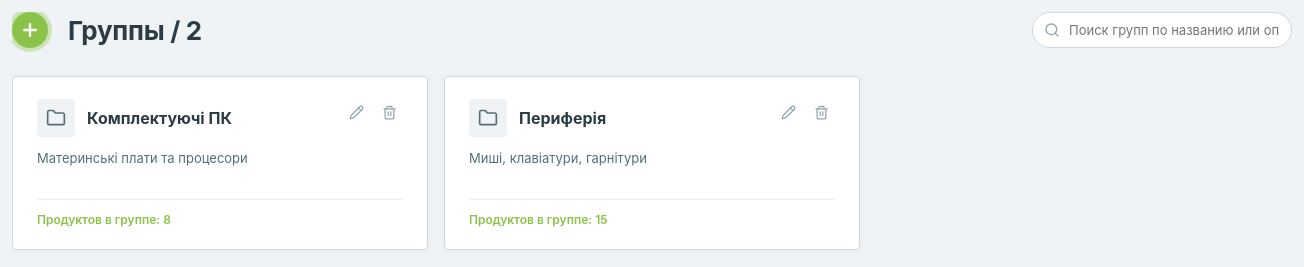
Frontend Groups Page Integration Tests (CRUD & Real-time) › filters groups with contextual search input
expect the heading "Комплектуючі ПК" is shown: met, box [87,108,232,128]
Step 1. Type "Периферія" into the field with placeholder "Поиск групп по названию или описанию..." → (1162, 30), box [1032,12,1292,48]
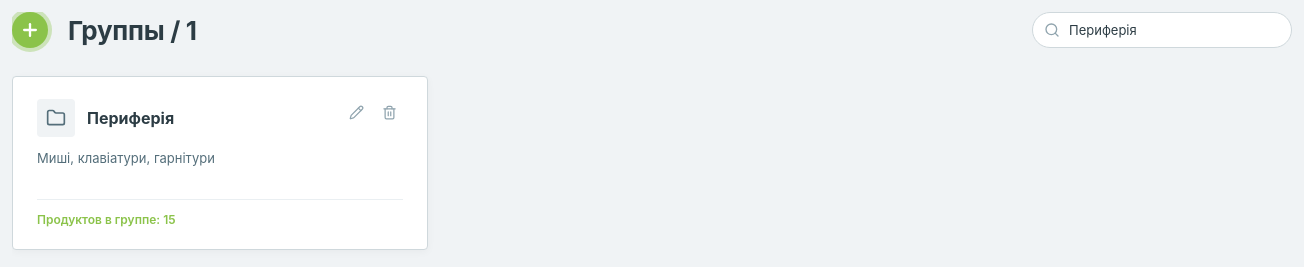
expect the heading "Периферія" is shown: met, box [87,108,174,128]
expect the heading "Комплектуючі ПК" is gone: met
